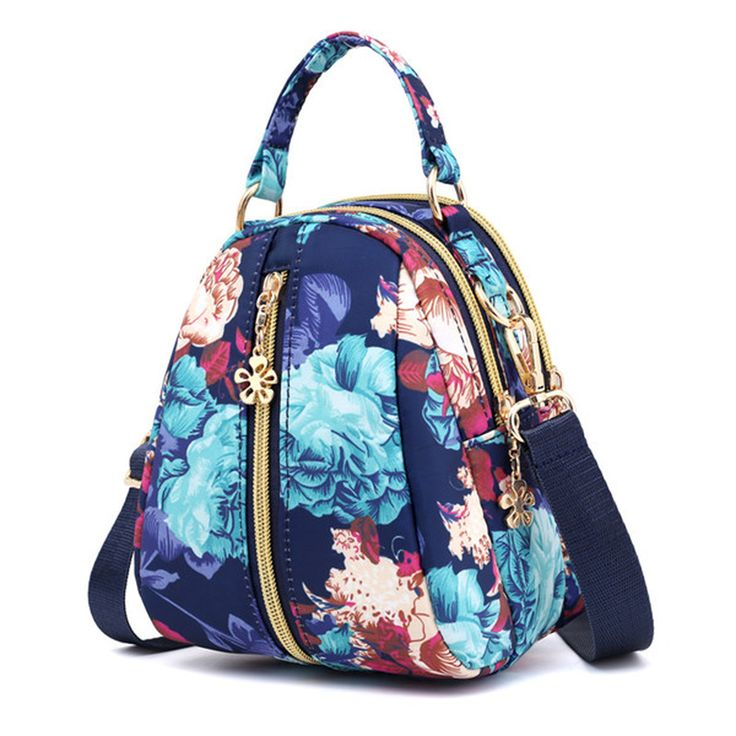nylon: (131, 198, 574, 677)
